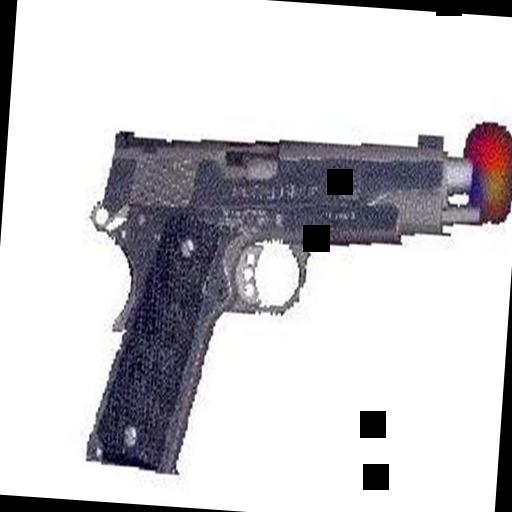Handgun: (74, 101, 490, 496)
